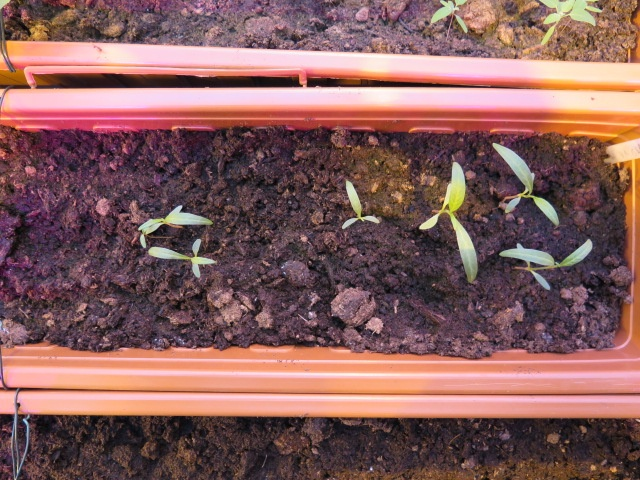crop: (421, 156, 479, 285), (488, 138, 562, 230), (492, 240, 601, 289)
weed: (127, 238, 225, 278), (126, 200, 220, 234), (338, 175, 382, 231)
